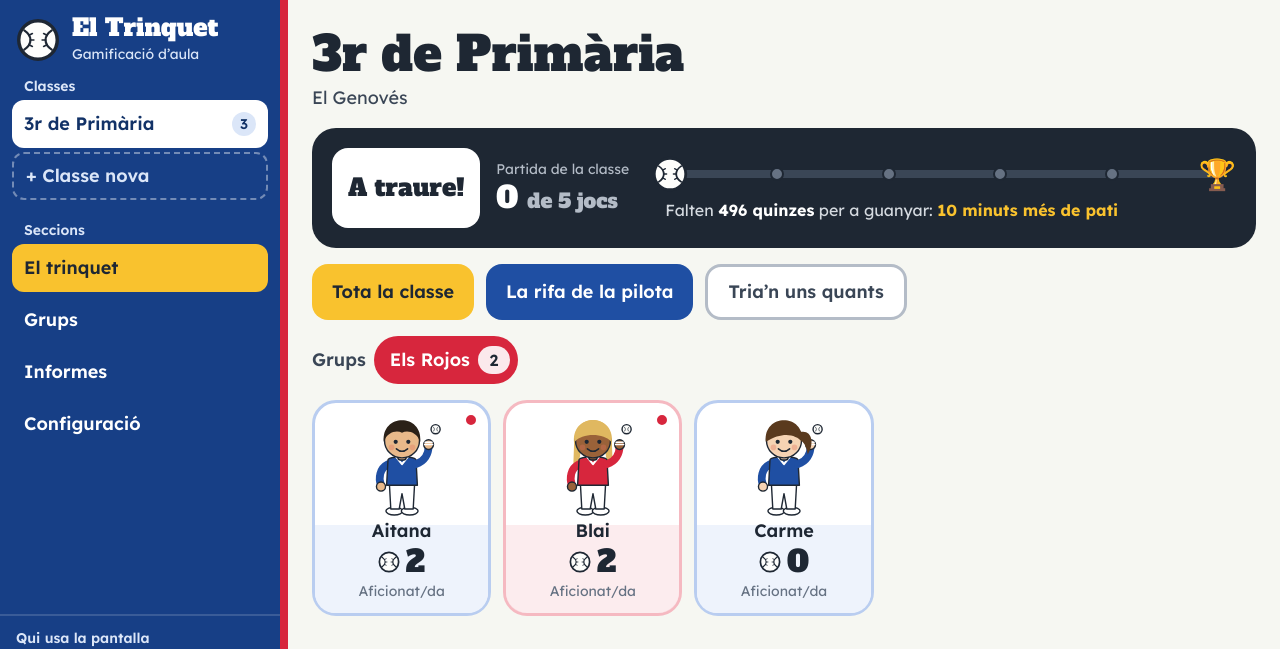
Test case: grups dins d’una classe › Informes té una vista per grups amb els membres i els quinzes de cada un
This screenshot has width=1280, height=649.
Click the button "Informes" at (140, 372), box [12,348,268,396]
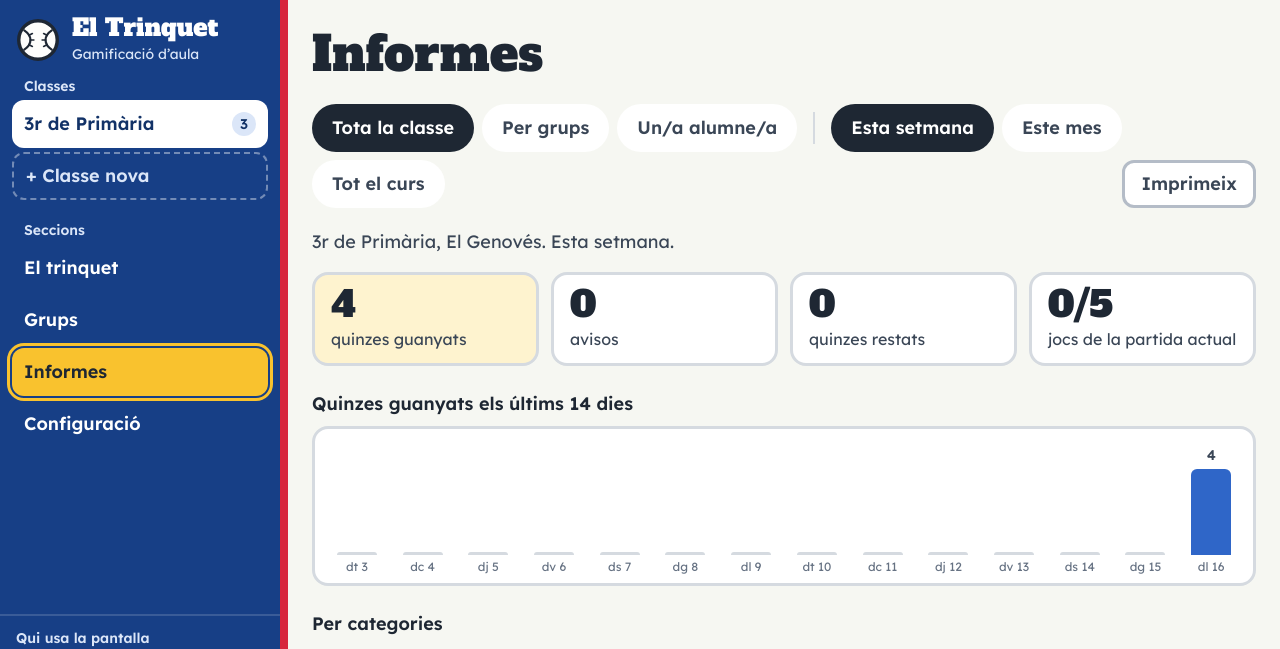
Click the button "Per grups" at (546, 128), box [482,104,609,152]
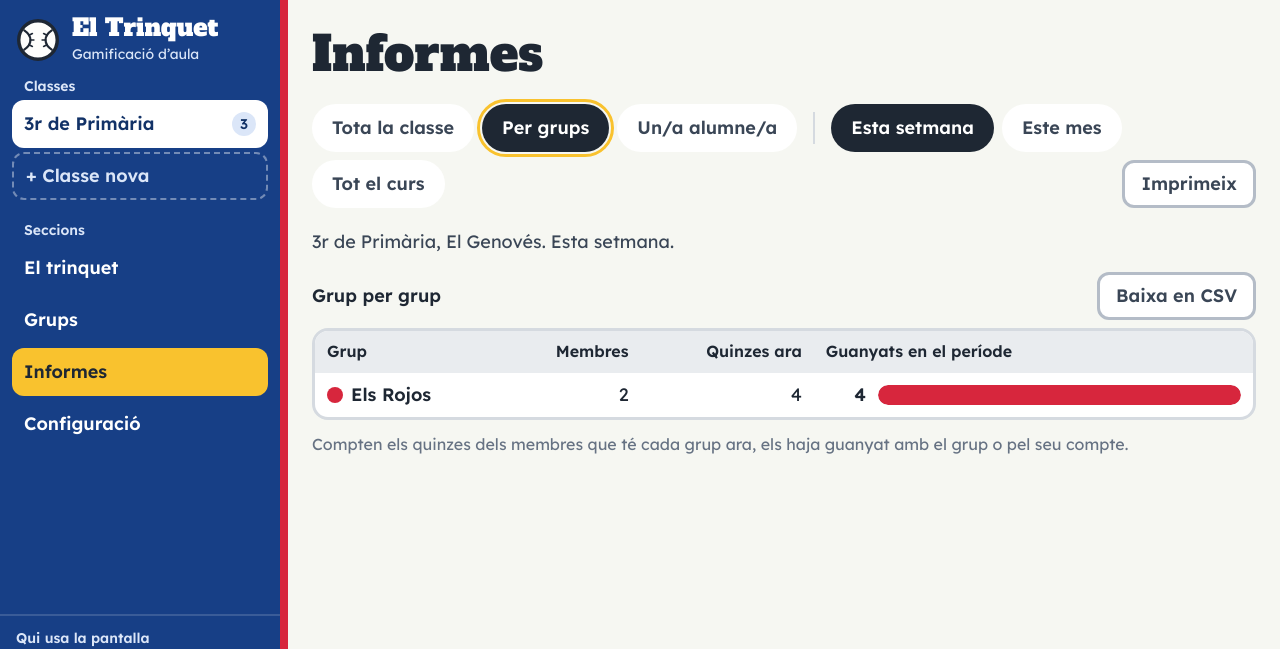
Result: the cells read "2", "4", "4", in this order at [500,372,641,417]; [641,372,814,417]; [814,372,878,417]
